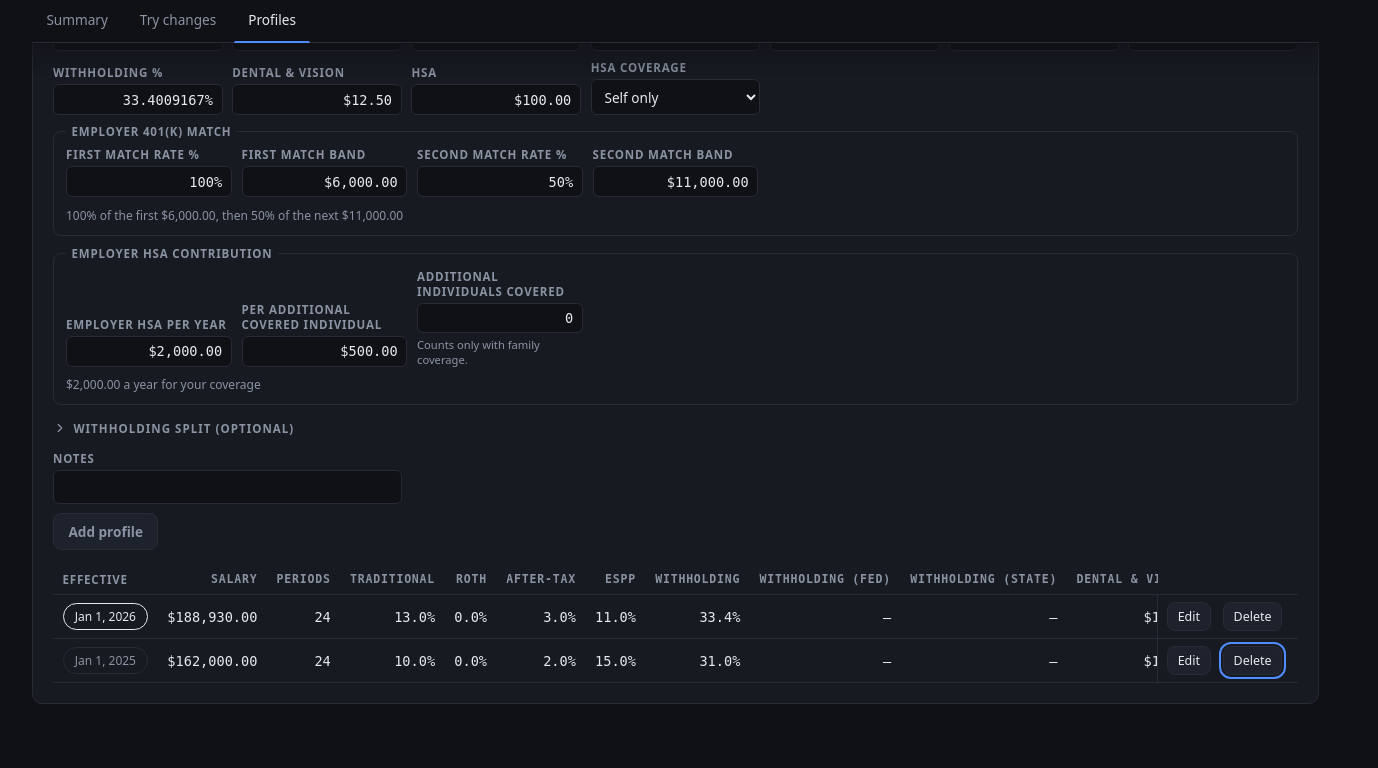
Scenario: restores the original profile id and focuses it after its reload
(page scrolled)
Click the button with aria-label "Delete the profile effective Jan 1, 2025" at (1253, 660), box top-left (1223, 646), bottom-right (1282, 675)
(page scrolled)
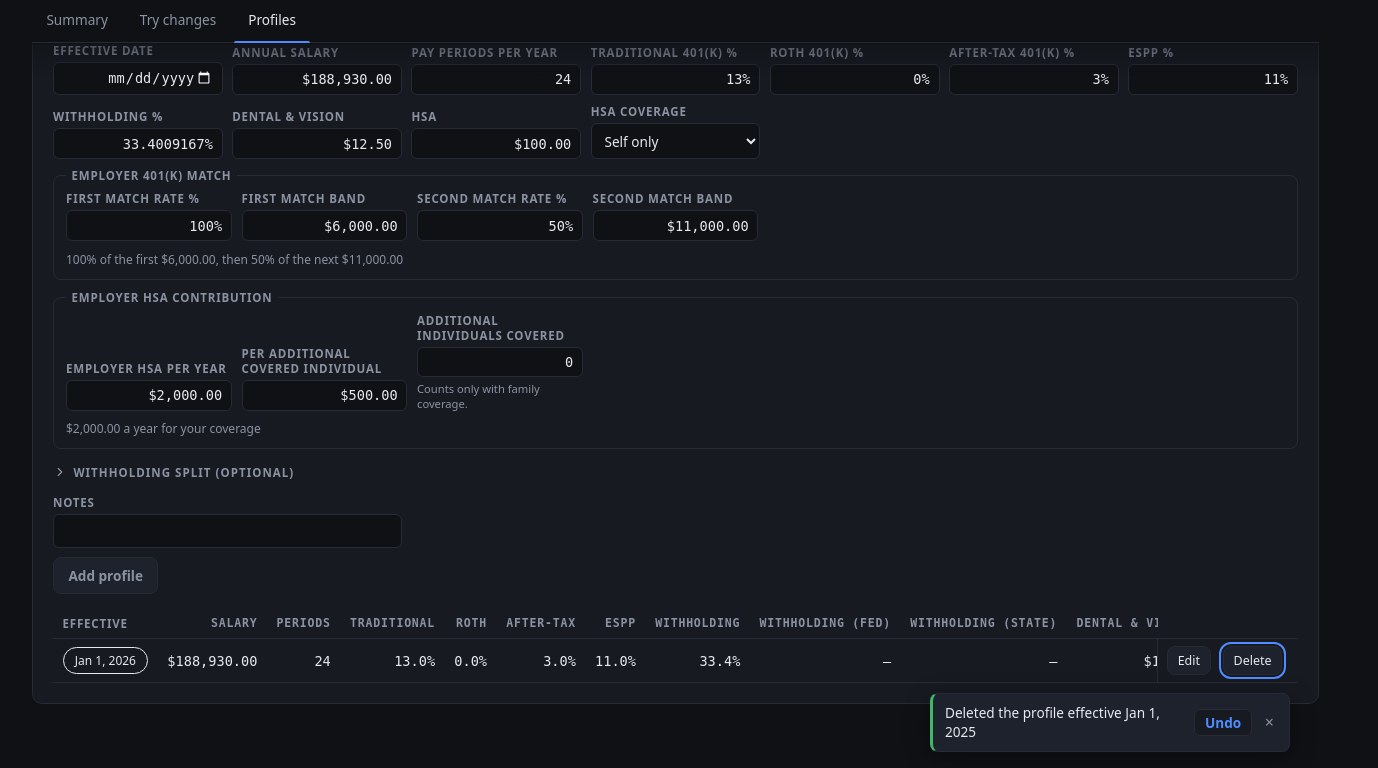
Check: the text "Deleted the profile effective Jan 1, 2025" is shown, box top-left (945, 703), bottom-right (1185, 741)
Click the button "Undo" at (1223, 722), box top-left (1194, 709), bottom-right (1252, 736)
(page scrolled)
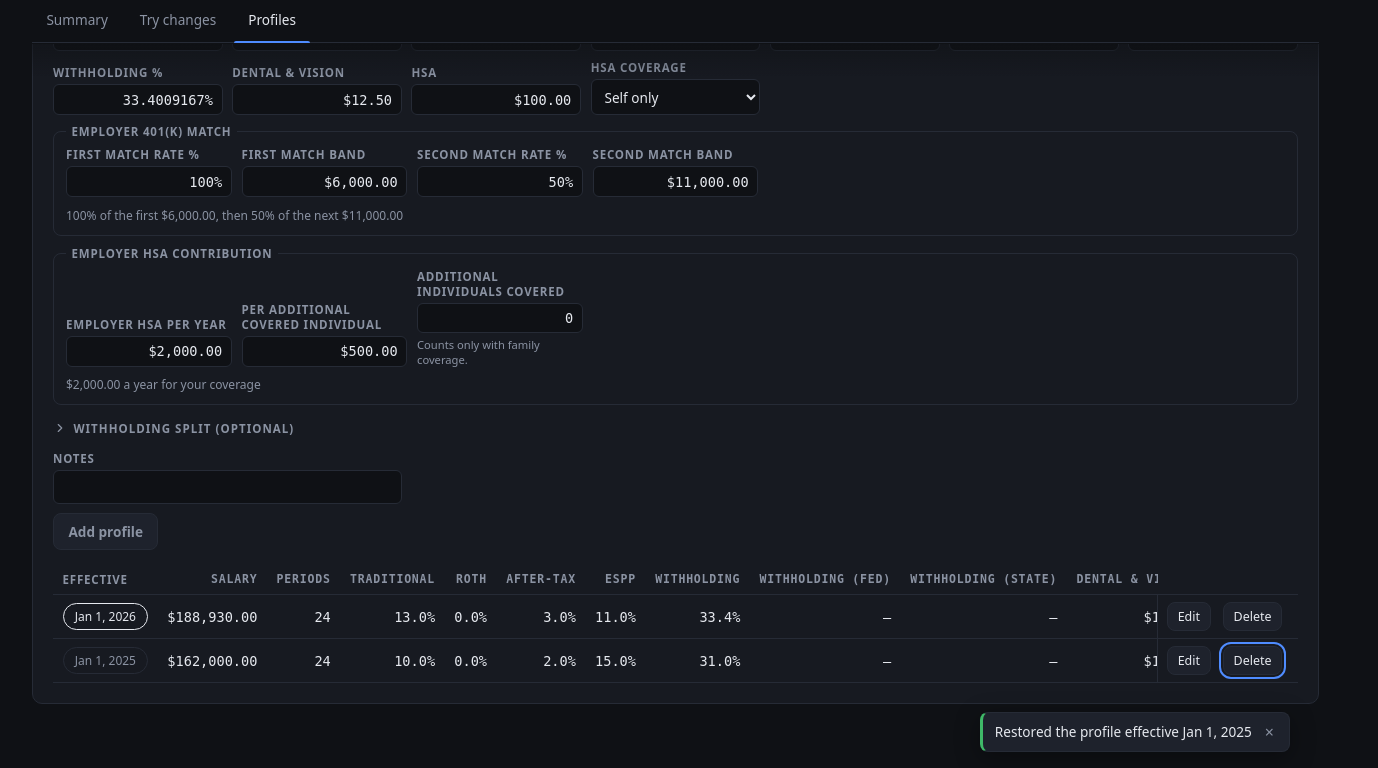
Check: the text "Restored the profile effective Jan 1, 2025" is shown, box top-left (995, 722), bottom-right (1252, 741)
